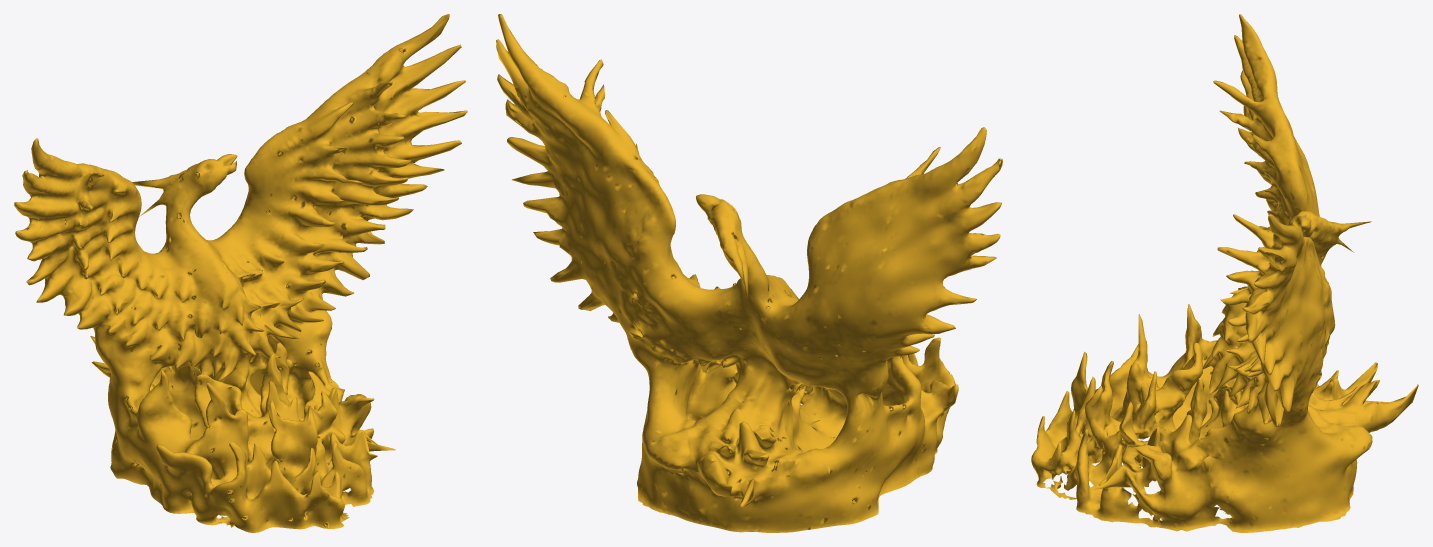
File: phoenix_draco.glb
3 renders of one model, left to right at view 1: azimuth 30°, elevation 25°; view 2: azimuth 150°, elevation 25°; view 3: azimuth 270°, elevation 25°, orthographic. The views are drawn at different scales.
Visible parts, largest first — view 1: Model; view 2: Model; view 3: Model.
Boxes of the visible parts, x1=… form: Model: x1=14, y1=14, x2=467, y2=532; Model: x1=496, y1=14, x2=1002, y2=532; Model: x1=1031, y1=14, x2=1418, y2=532.
Bounding box in the file's own units: 0.406 × 0.3256 × 0.2959.
